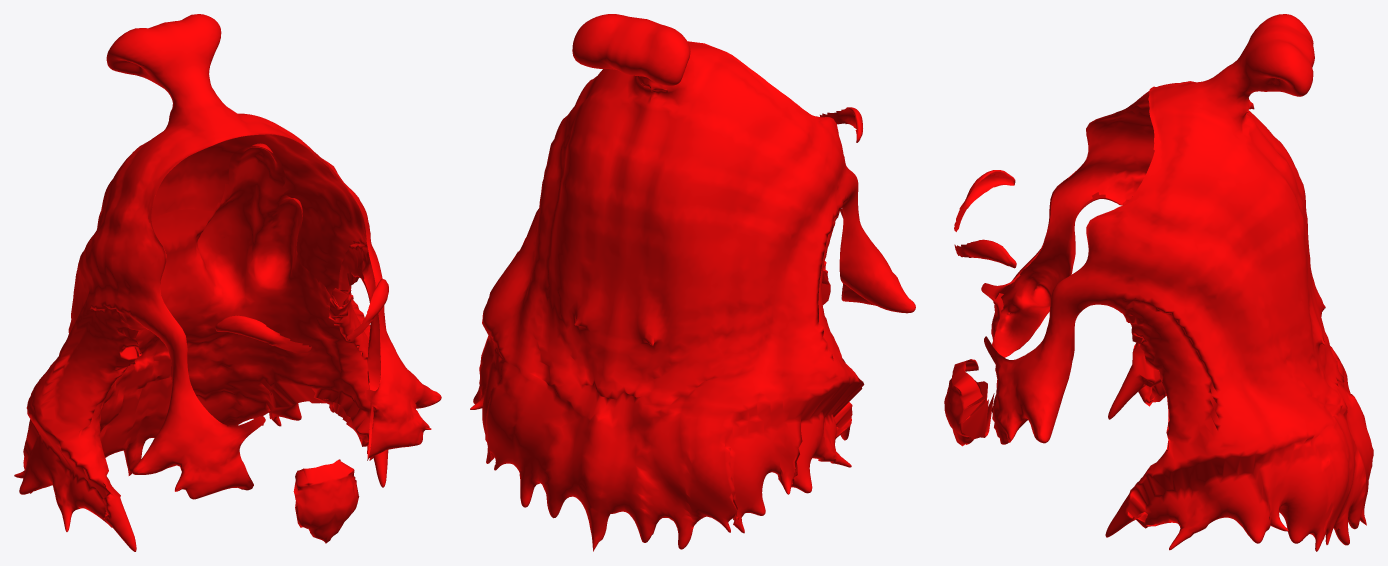
File: culturalibre_hair_11_M.glb
3 views of the same model, side by side, from view 1: azimuth 30°, elevation 25°; view 2: azimuth 150°, elevation 25°; view 3: azimuth 270°, elevation 25° (orthographic). The views are drawn at different scales.
Bounding box in the file's own units: 0.2617 × 0.3562 × 0.2797.
1 material, 1 textured.
